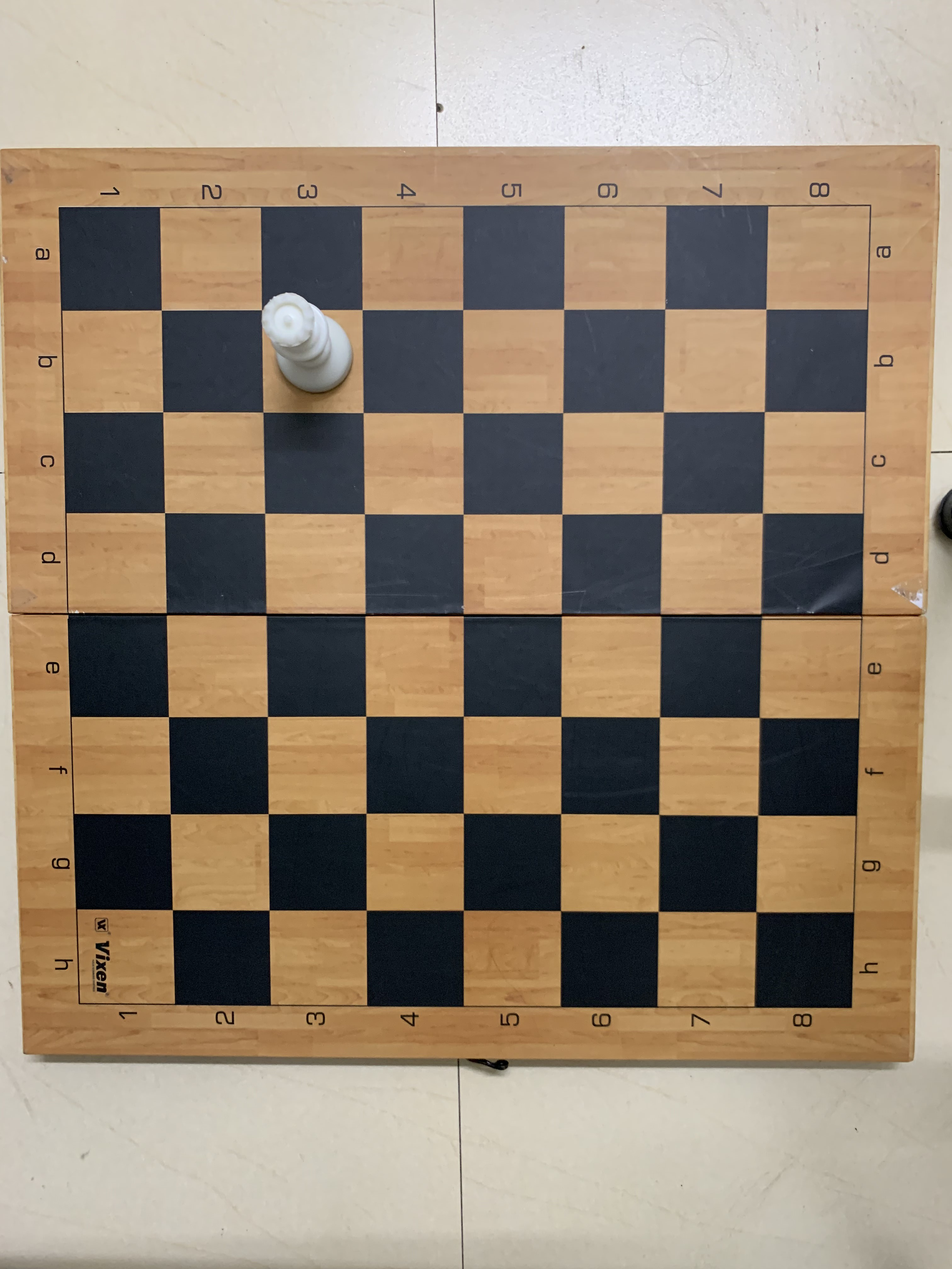white_queen: (261, 292, 365, 417)
